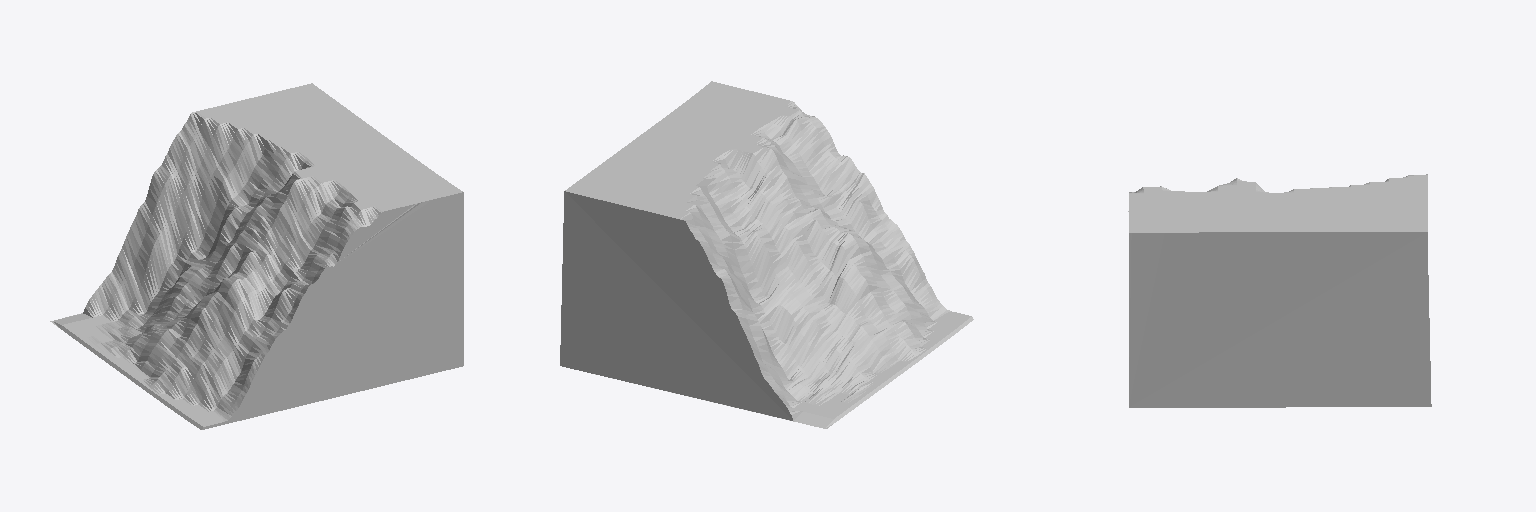
The model's file is B1Clliff.obj.
3 renders of one model, left to right at view 1: azimuth 30°, elevation 25°; view 2: azimuth 150°, elevation 25°; view 3: azimuth 270°, elevation 25°, orthographic.
Visible parts, largest first — view 1: Cliff_Segment_1_Landscape.016; view 2: Cliff_Segment_1_Landscape.016; view 3: Cliff_Segment_1_Landscape.016.
Part boxes in pixels (left/top/right/bottom): Cliff_Segment_1_Landscape.016: left=50, top=83, right=463, bottom=429; Cliff_Segment_1_Landscape.016: left=560, top=81, right=973, bottom=428; Cliff_Segment_1_Landscape.016: left=1128, top=174, right=1431, bottom=407.
Size of the model in its own units: 2.02 by 1.27 by 2.